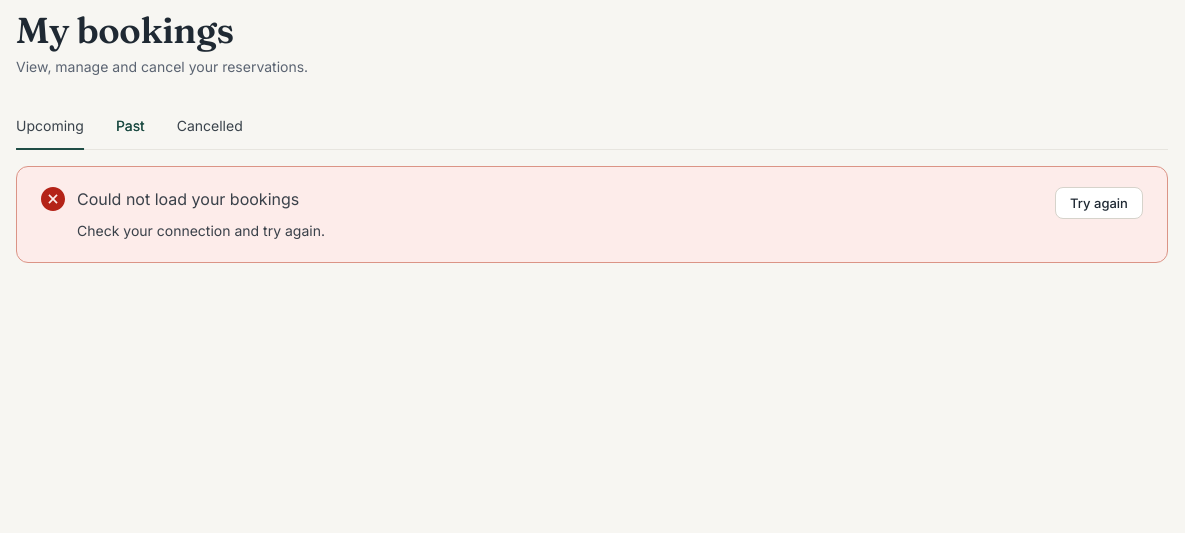
Scenario: MyBookingsView › renders Empty 'No upcoming bookings' with Browse rooms and error Alert with Try again
Earlier steps of the test are not shown.
Expected: the text "Could not load your bookings" is shown, left=77, top=189, right=299, bottom=209
Click the button "Try again": coordinates (1099, 203) left=1055, top=187, right=1143, bottom=219
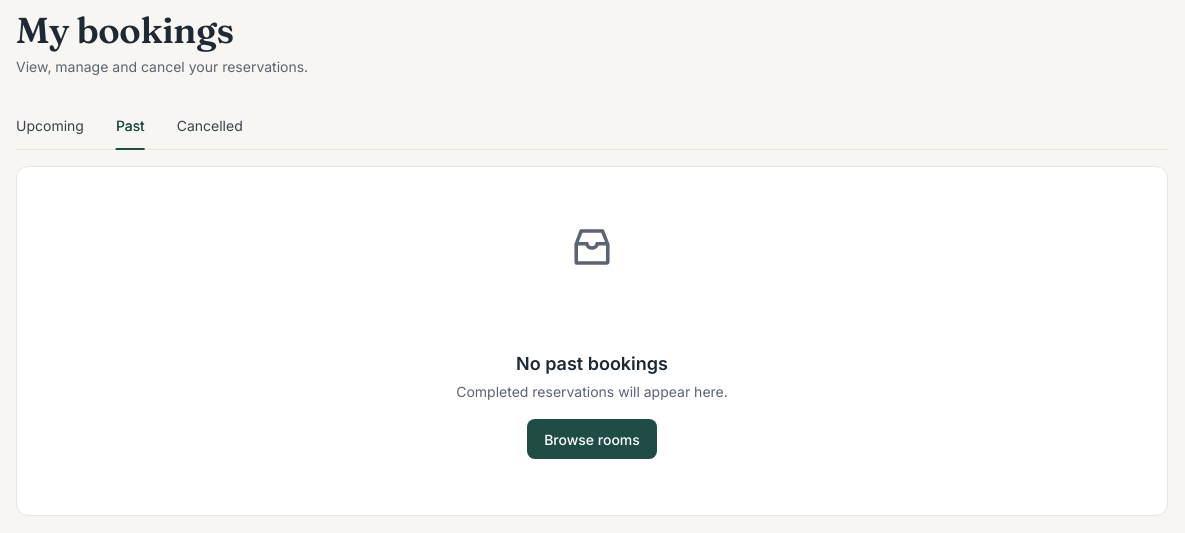
Now the text "No past bookings" is shown, box left=516, top=353, right=668, bottom=374
